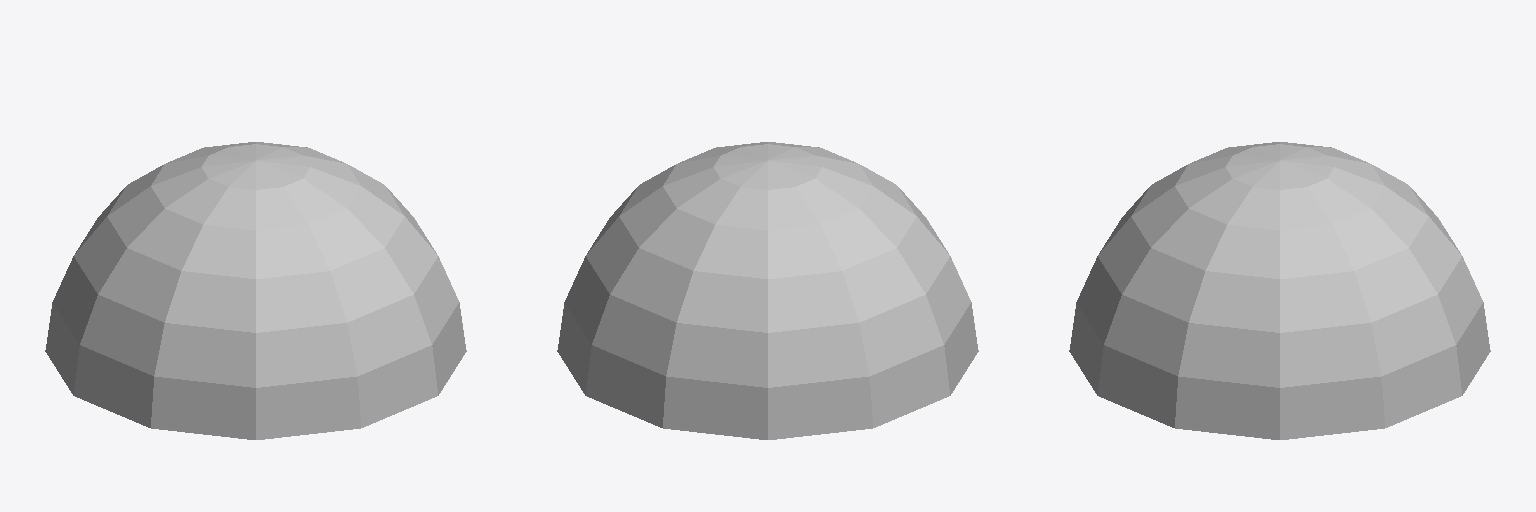
Rendered from half_sphere.obj.
3 renders of one model, left to right at view 1: azimuth 30°, elevation 25°; view 2: azimuth 150°, elevation 25°; view 3: azimuth 270°, elevation 25°, orthographic.
Visible parts, largest first — view 1: Sphere_Sphere.001; view 2: Sphere_Sphere.001; view 3: Sphere_Sphere.001.
Part boxes in pixels (bbox=[...]): Sphere_Sphere.001: bbox=[45, 142, 466, 439]; Sphere_Sphere.001: bbox=[557, 142, 978, 439]; Sphere_Sphere.001: bbox=[1069, 142, 1490, 439].
Bounding box in the file's own units: 2 × 1 × 2.